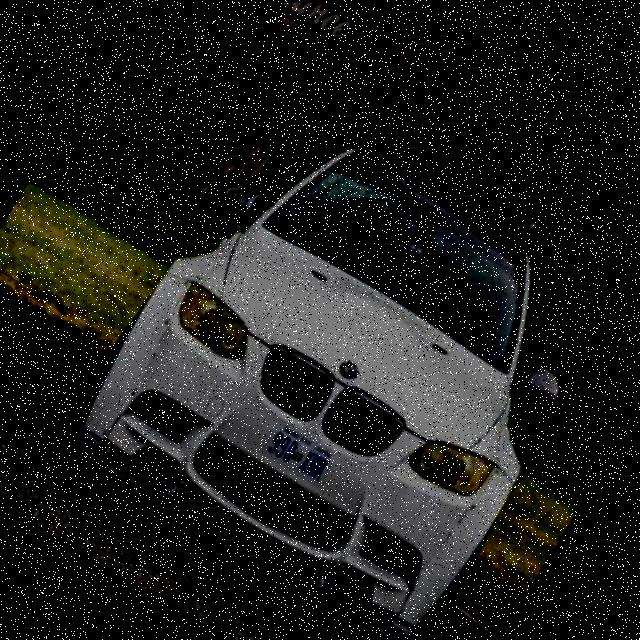license_plate: (260, 418, 341, 489)
